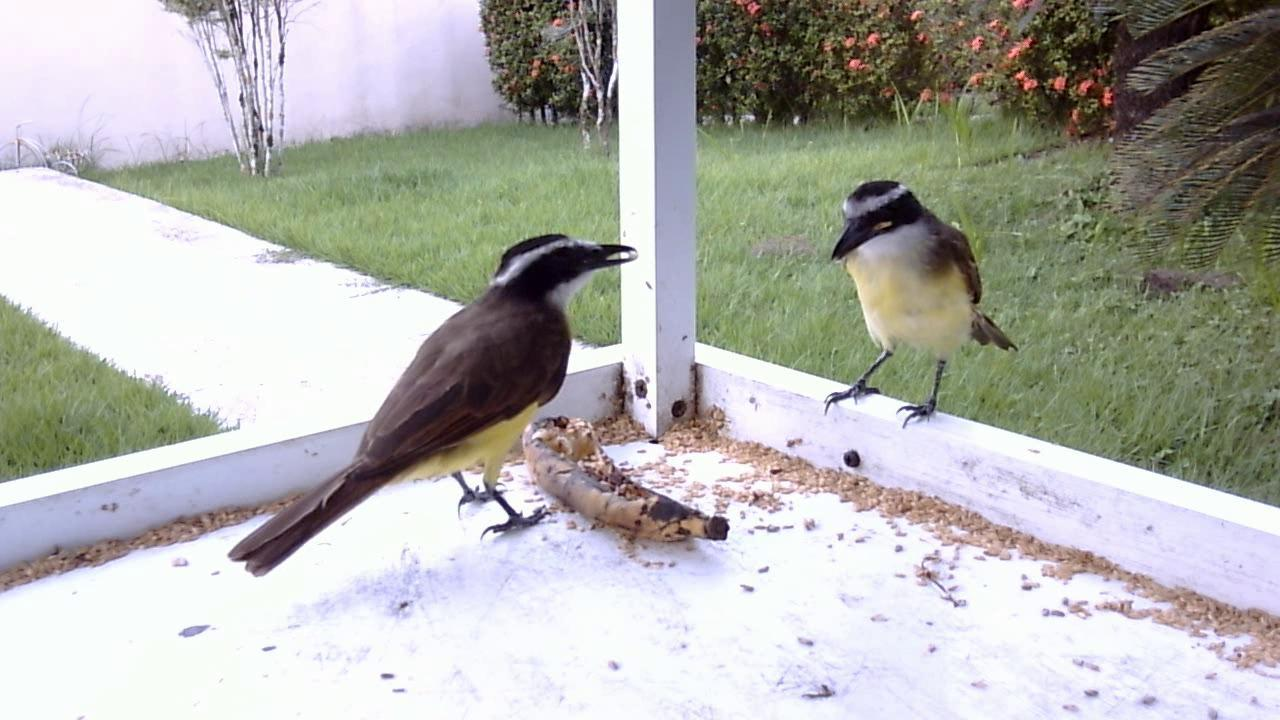bem_te_vi: (217, 234, 667, 582), (812, 172, 1025, 448)
